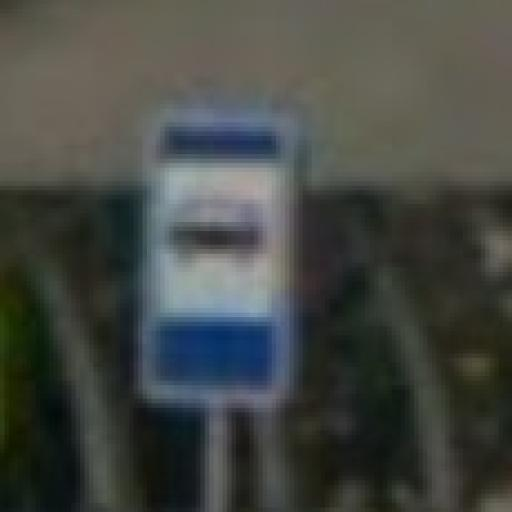traffic_sign: (135, 105, 299, 409)
